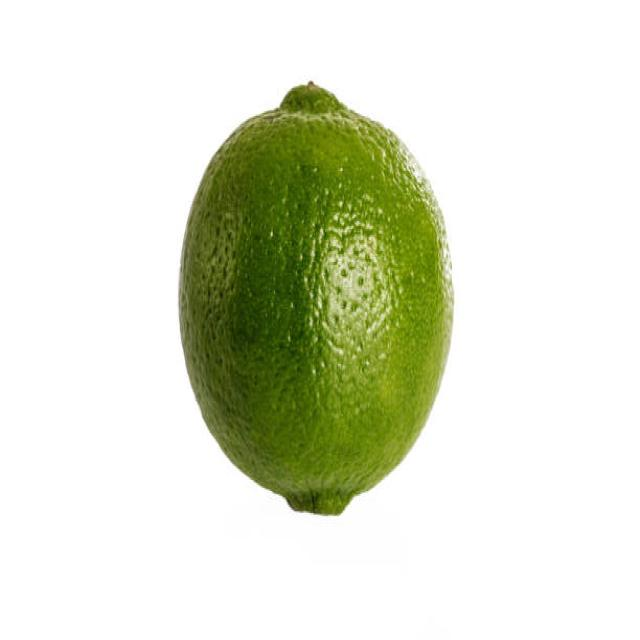Unripe: (177, 79, 456, 516)
